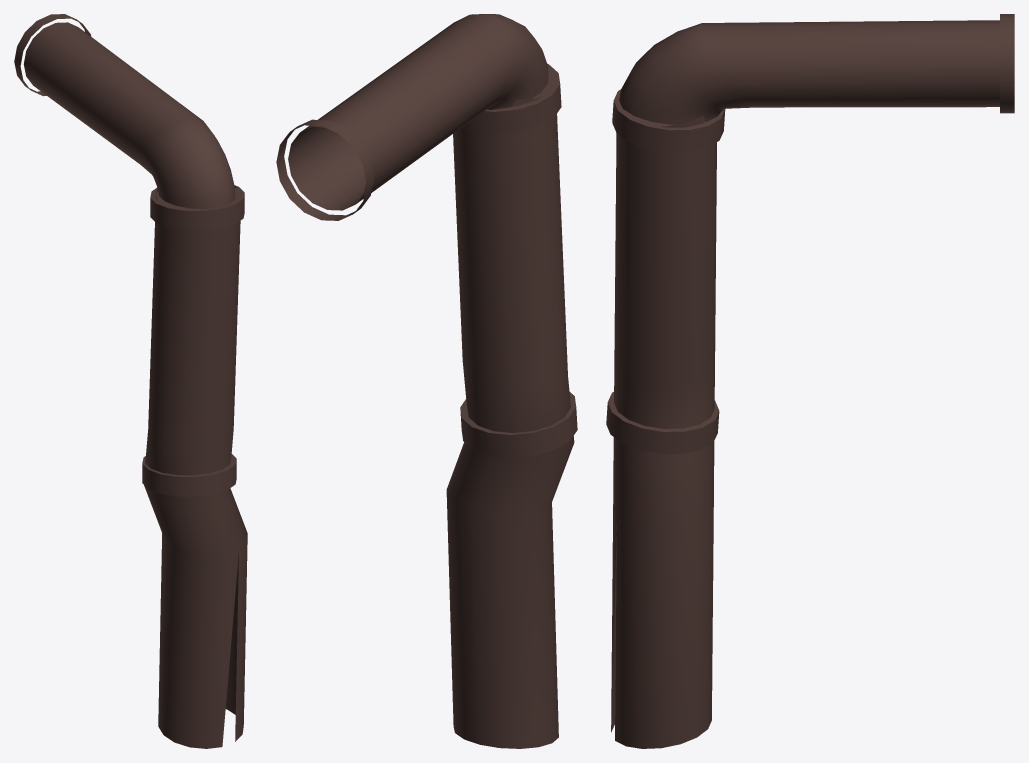
Rendered from small_pipe.glb.
3 views of the same model, side by side, from view 1: azimuth 30°, elevation 25°; view 2: azimuth 150°, elevation 25°; view 3: azimuth 270°, elevation 25° (orthographic). The views are drawn at different scales.
Visible parts, largest first — view 1: pCylinder53_rust_metal_0.013, pCylinder53_rust_metal_0.012, pCylinder57_rust_metal_0.005, pCylinder57_rust_metal_0.004, pCylinder53_rust_metal_0.015; view 2: pCylinder53_rust_metal_0.013, pCylinder53_rust_metal_0.012, pCylinder57_rust_metal_0.004, pCylinder57_rust_metal_0.005, pCylinder53_rust_metal_0.015; view 3: pCylinder53_rust_metal_0.013, pCylinder53_rust_metal_0.012, pCylinder57_rust_metal_0.005, pCylinder57_rust_metal_0.004, pCylinder53_rust_metal_0.015.
Part boxes in pixels (box(x1,y1,x2,y2)): pCylinder53_rust_metal_0.013: box(144, 186, 247, 748); pCylinder53_rust_metal_0.012: box(23, 22, 235, 208); pCylinder57_rust_metal_0.005: box(150, 185, 244, 230); pCylinder57_rust_metal_0.004: box(142, 454, 236, 496); pCylinder53_rust_metal_0.015: box(14, 14, 91, 96); pCylinder53_rust_metal_0.013: box(446, 97, 574, 748); pCylinder53_rust_metal_0.012: box(288, 14, 548, 210); pCylinder57_rust_metal_0.004: box(460, 392, 577, 457); pCylinder57_rust_metal_0.005: box(461, 64, 561, 134); pCylinder53_rust_metal_0.015: box(276, 119, 374, 220); pCylinder53_rust_metal_0.013: box(611, 115, 716, 748); pCylinder53_rust_metal_0.012: box(619, 20, 999, 124); pCylinder57_rust_metal_0.005: box(612, 89, 725, 152); pCylinder57_rust_metal_0.004: box(606, 392, 719, 454); pCylinder53_rust_metal_0.015: box(1000, 14, 1014, 113).
Bounding box in the file's own units: 7.67 × 47.09 × 24.41.
